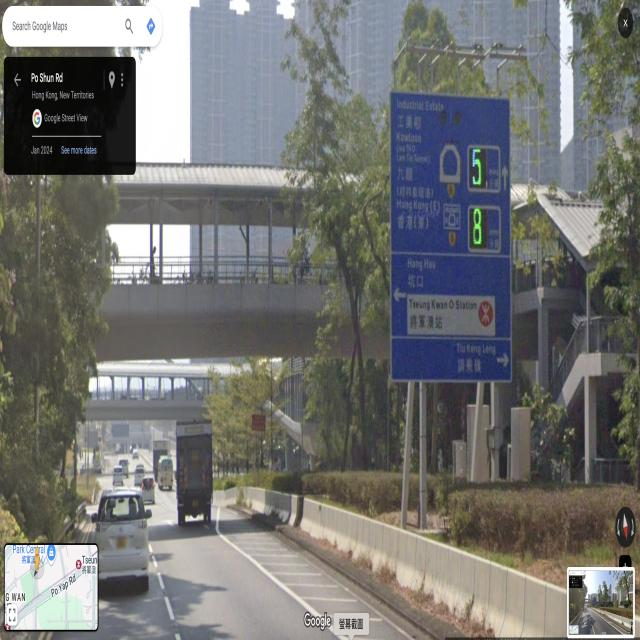Direction-Sign: (394, 92, 511, 376)
Warning-Sign: (253, 414, 265, 431)
